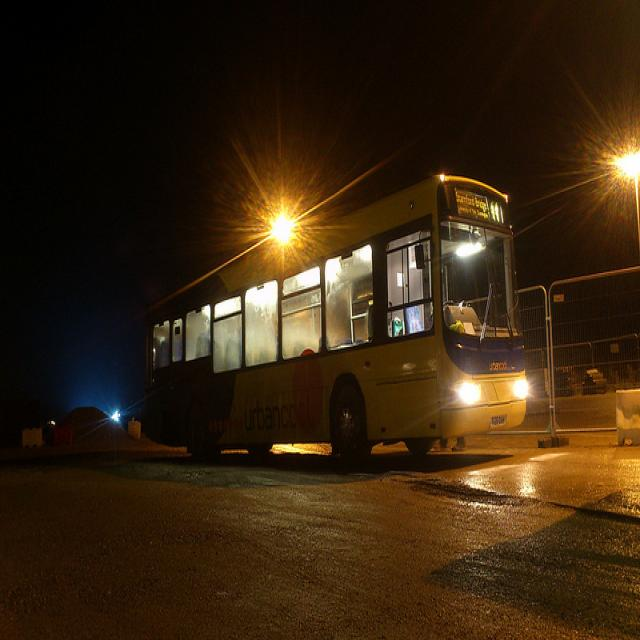Bus: (143, 153, 591, 486)
car: (49, 400, 118, 454)
